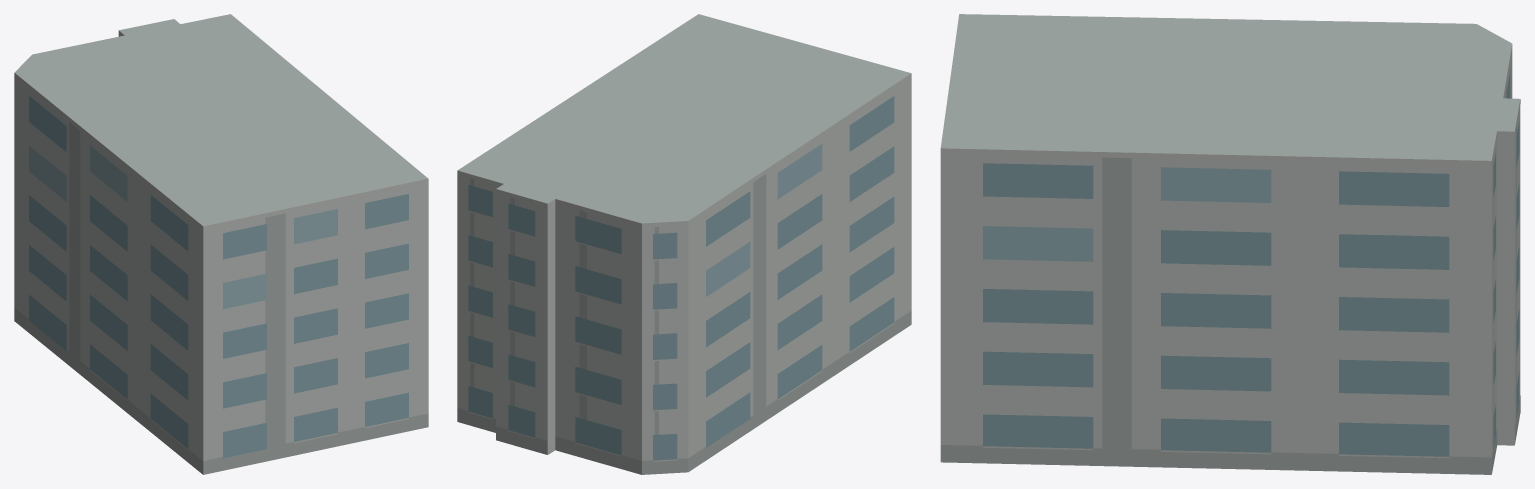
Rendered from survey-upis-32812344.glb.
3 renders of one model, left to right at view 1: azimuth 30°, elevation 25°; view 2: azimuth 150°, elevation 25°; view 3: azimuth 270°, elevation 25°, orthographic. The views are drawn at different scales.
Visible parts, largest first — view 1: survey-upis-32812344.tmp; view 2: survey-upis-32812344.tmp; view 3: survey-upis-32812344.tmp.
Part boxes in pixels (<box>): survey-upis-32812344.tmp: <box>14,14,428,474</box>; survey-upis-32812344.tmp: <box>457,14,911,474</box>; survey-upis-32812344.tmp: <box>940,14,1520,474</box>.
Bounding box in the file's own units: 14.08 × 14.02 × 23.47.
